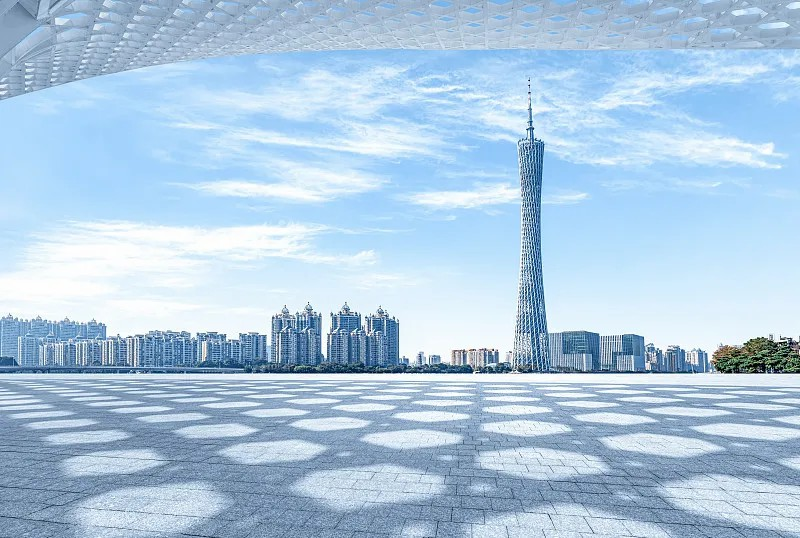Canton: (510, 78, 551, 371)
